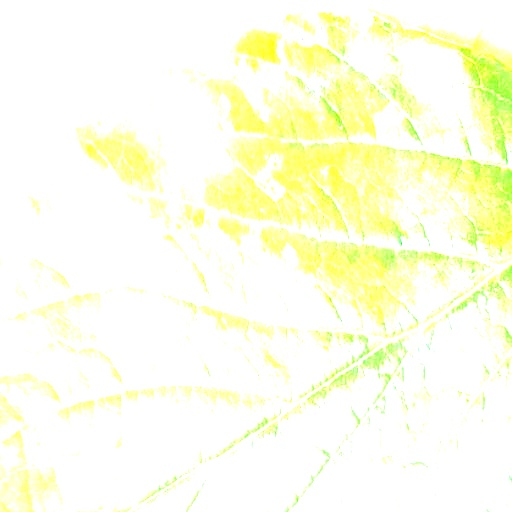Angular Leafspot: (0, 12, 511, 492)
